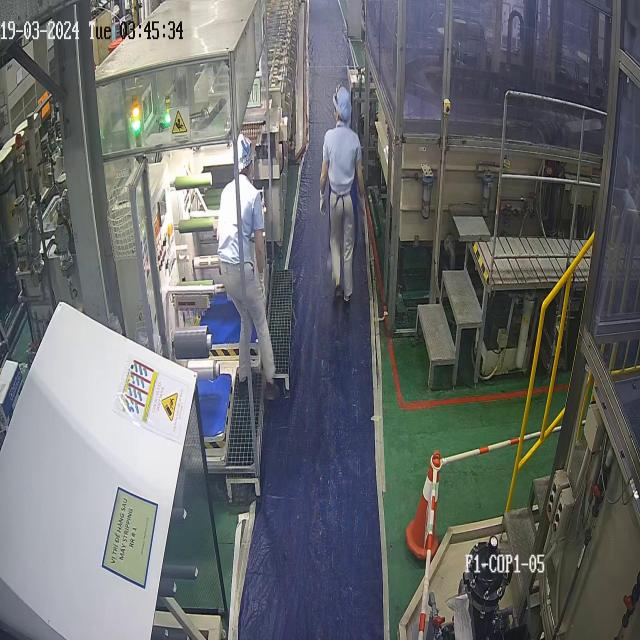Person: (216, 133, 280, 400), (319, 84, 366, 302)
